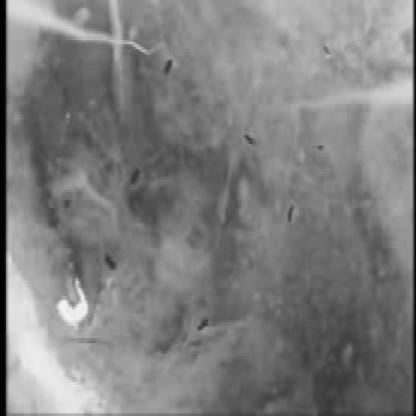rehkitze: (54, 276, 91, 330)
